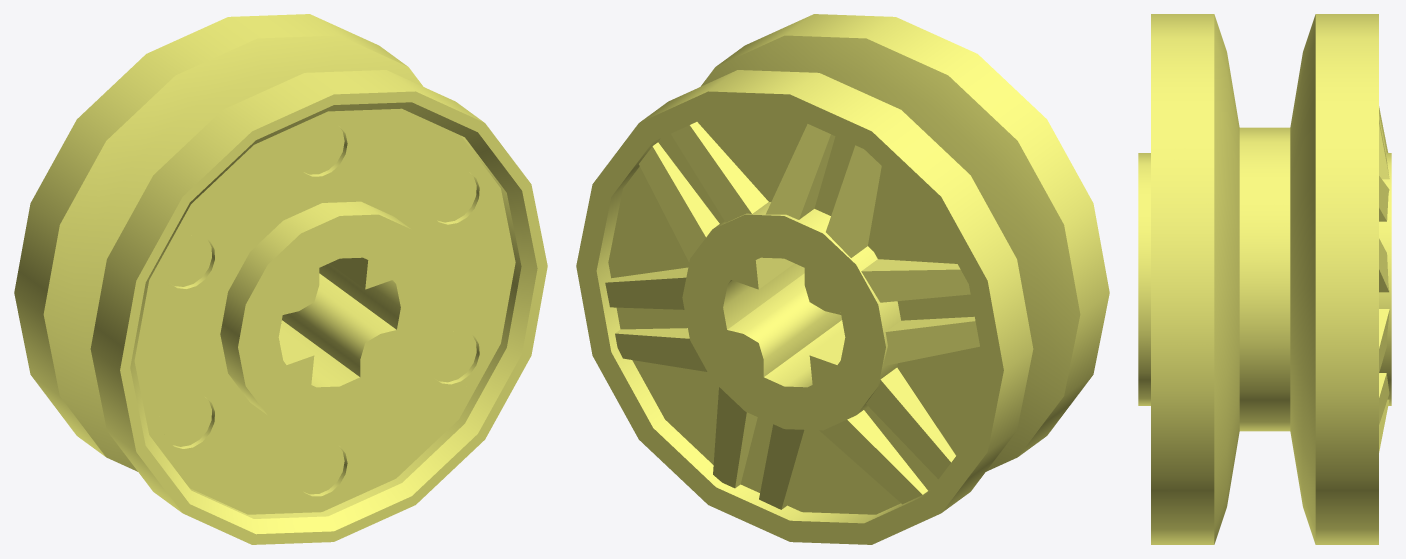
3 views of the same model, side by side, from view 1: azimuth 30°, elevation 25°; view 2: azimuth 150°, elevation 25°; view 3: azimuth 270°, elevation 25° (orthographic). The views are drawn at different scales.
Parts seen in each view (by area): view 1: 56903.dat; view 2: 56903.dat; view 3: 56903.dat.
Part boxes in pixels (x1,y1,x2,y2): 56903.dat: (14,14,547,544); 56903.dat: (576,14,1109,544); 56903.dat: (1138,14,1391,544).
Bounding box in the file's own units: 0.0168 × 0.0168 × 0.008.
